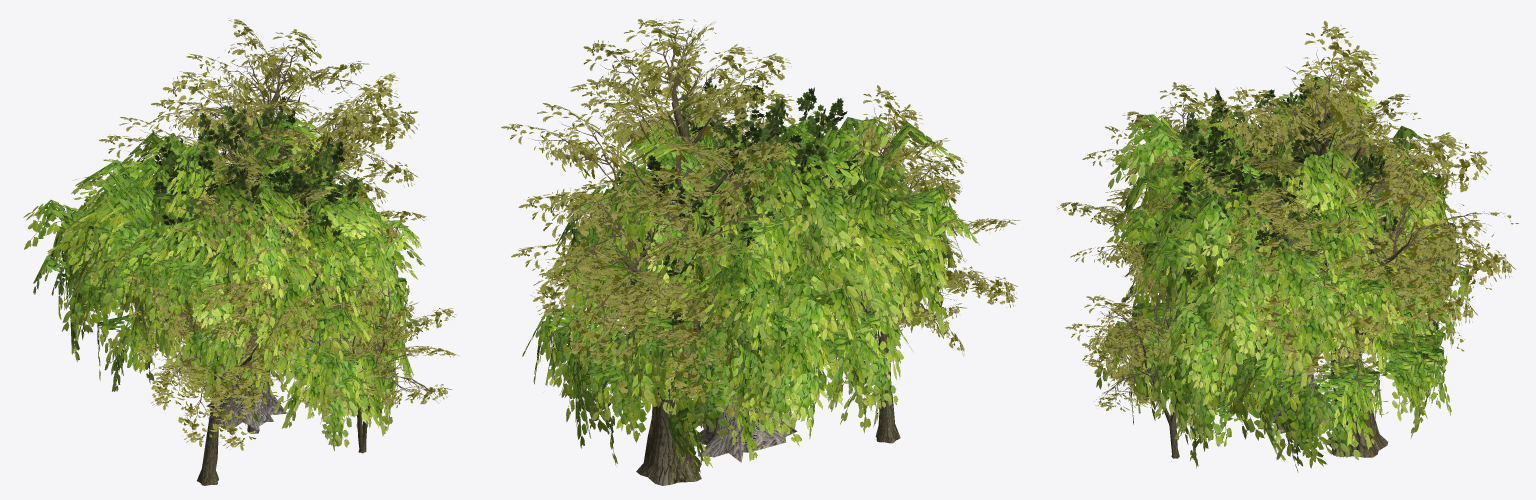
File: nat_trees.glb
The picture shows the model from 3 angles, left to right: view 1: azimuth 30°, elevation 25°; view 2: azimuth 150°, elevation 25°; view 3: azimuth 270°, elevation 25°; orthographic projection. The views are drawn at different scales.
Parts seen in each view (by area): view 1: willow_b, oak, willow_a, maple; view 2: willow_b, oak, willow_a, maple; view 3: oak, willow_b, willow_a, maple.
Part boxes in pixels (x1=…): willow_b: x1=23, y1=149, x2=425, y2=430; oak: x1=99, y1=18, x2=458, y2=485; willow_a: x1=33, y1=115, x2=422, y2=450; maple: x1=129, y1=96, x2=366, y2=433; willow_b: x1=522, y1=117, x2=979, y2=466; oak: x1=501, y1=18, x2=1020, y2=485; willow_a: x1=555, y1=108, x2=905, y2=472; maple: x1=616, y1=77, x2=871, y2=452; oak: x1=1057, y1=21, x2=1518, y2=458; willow_b: x1=1108, y1=76, x2=1468, y2=472; willow_a: x1=1096, y1=94, x2=1471, y2=468; maple: x1=1155, y1=81, x2=1403, y2=433.
Size of the model in its own units: 9.65 by 10 by 10.17.
11 materials, 11 textured.
